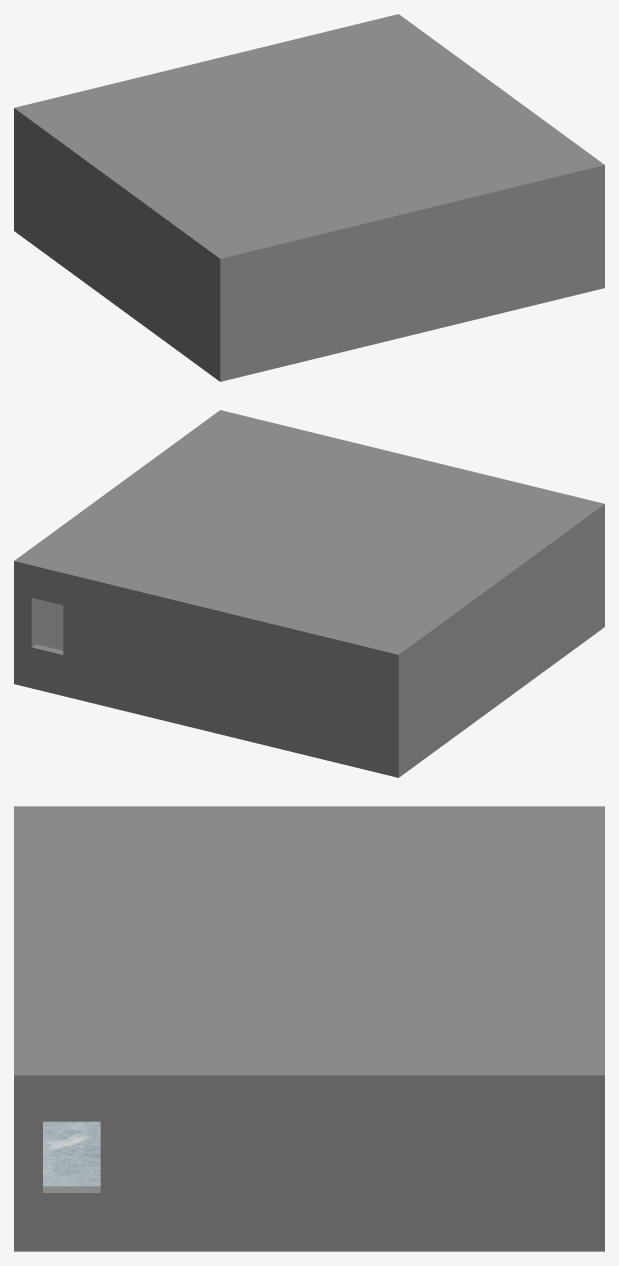
The model's file is Wall&Floor.FBX.
3 renders of one model, top to bottom at view 1: azimuth 30°, elevation 25°; view 2: azimuth 150°, elevation 25°; view 3: azimuth 270°, elevation 25°, orthographic. The views are drawn at different scales.
Parts seen in each view (by area): view 1: Wall01, Roof; view 2: Wall01, Roof; view 3: Roof, Wall01, Floor_Varanda.
Part boxes in pixels (x1,y1,x2,y2): Wall01: (14, 14, 604, 381); Roof: (26, 19, 591, 254); Wall01: (14, 410, 604, 777); Roof: (28, 415, 593, 649); Roof: (24, 811, 592, 1068); Wall01: (14, 806, 604, 1251); Floor_Varanda: (43, 1121, 100, 1186).
Size of the model in its own units: 1034609 by 316276 by 960839.
